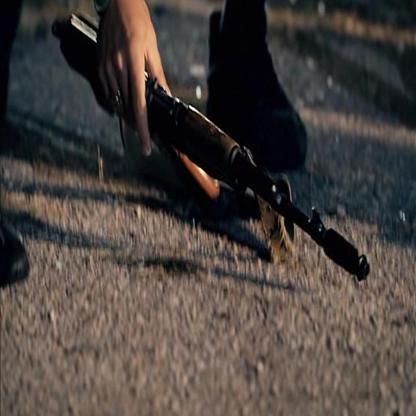gun: (47, 5, 371, 288)
